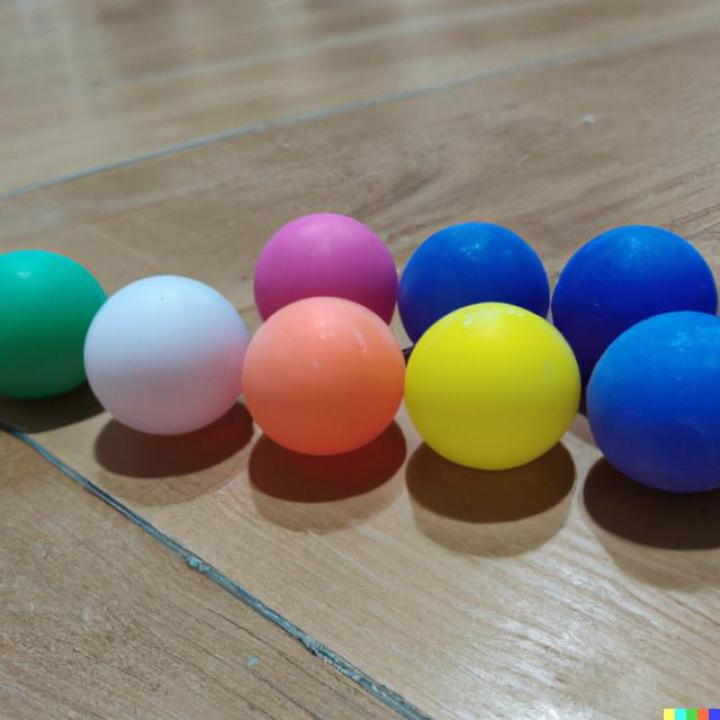orange: (244, 297, 406, 456)
white: (84, 277, 247, 433)
